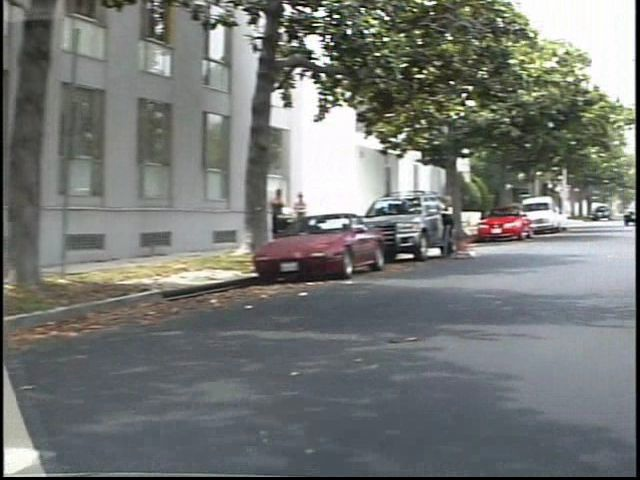person: (455, 192, 485, 266), (282, 183, 309, 251), (305, 189, 327, 248)
